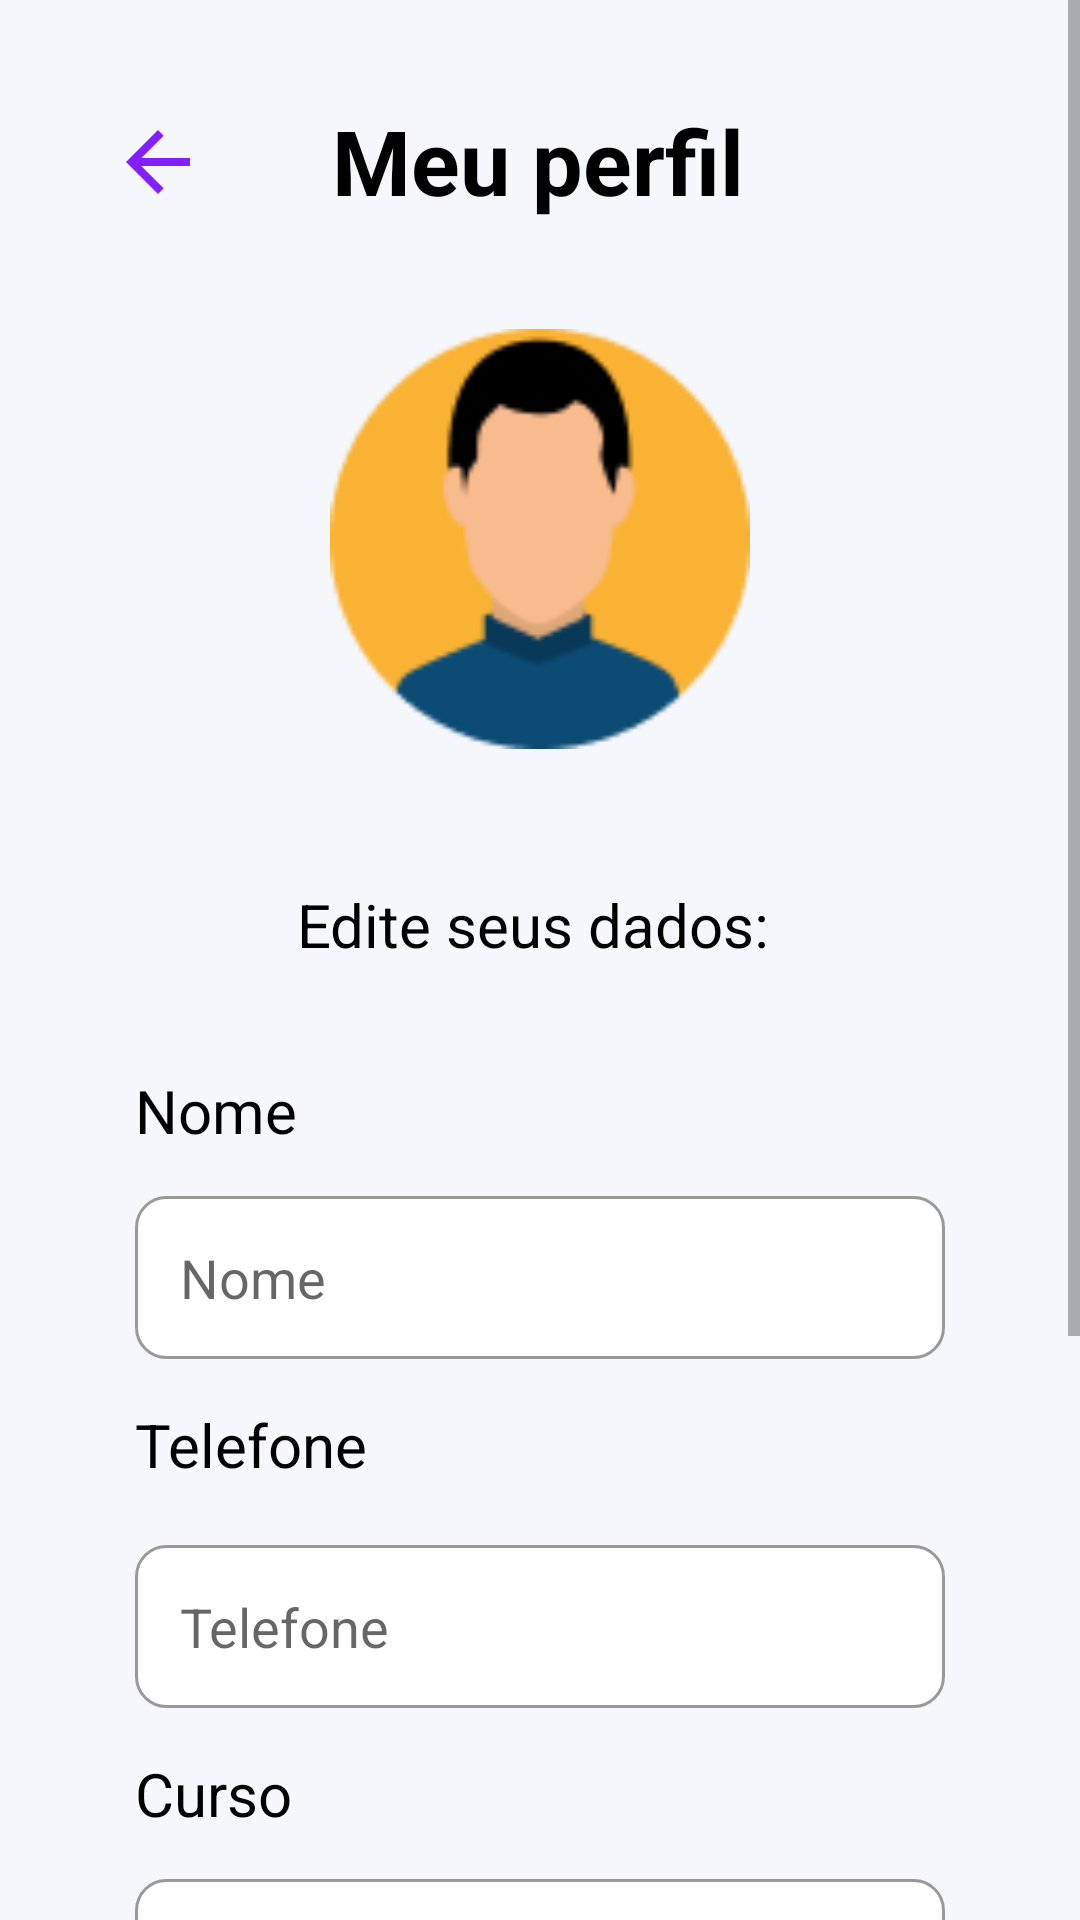

Screen size 1080x1920. Icon name, then its box in pixels as (x1, y1, x2, y2):
voltar: (126, 130, 190, 194)
